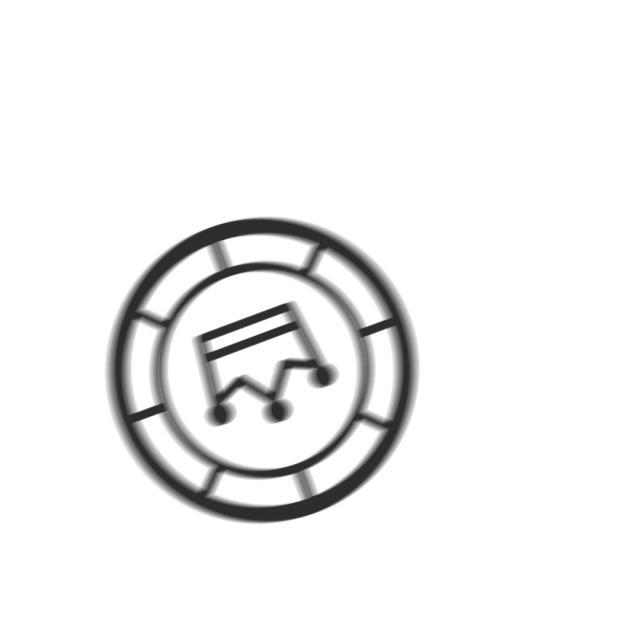coin: (102, 210, 430, 536)
